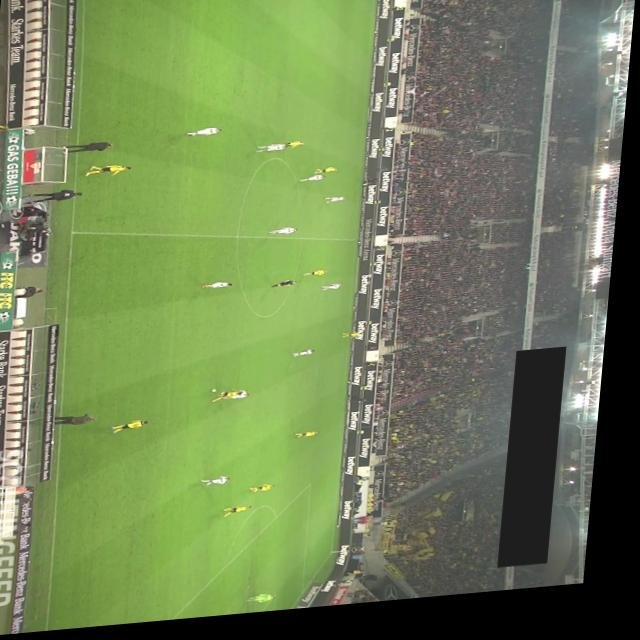goalkeeper: (256, 598, 288, 609)
player: (87, 165, 135, 181), (118, 423, 157, 438), (218, 392, 255, 407), (208, 480, 240, 492), (231, 511, 262, 523), (188, 131, 224, 141), (258, 148, 292, 158), (224, 395, 257, 405), (273, 232, 303, 242), (206, 286, 239, 294), (258, 489, 284, 498), (301, 181, 330, 189), (306, 276, 333, 284), (317, 173, 342, 181), (302, 437, 327, 445), (286, 147, 308, 155), (327, 202, 349, 210), (347, 338, 369, 346), (326, 290, 347, 298), (298, 356, 322, 363)
referee: (276, 285, 302, 293), (364, 185, 386, 194)
